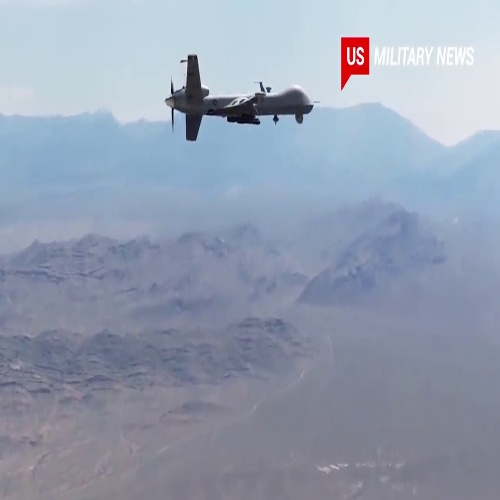uav676: (159, 55, 318, 141)
